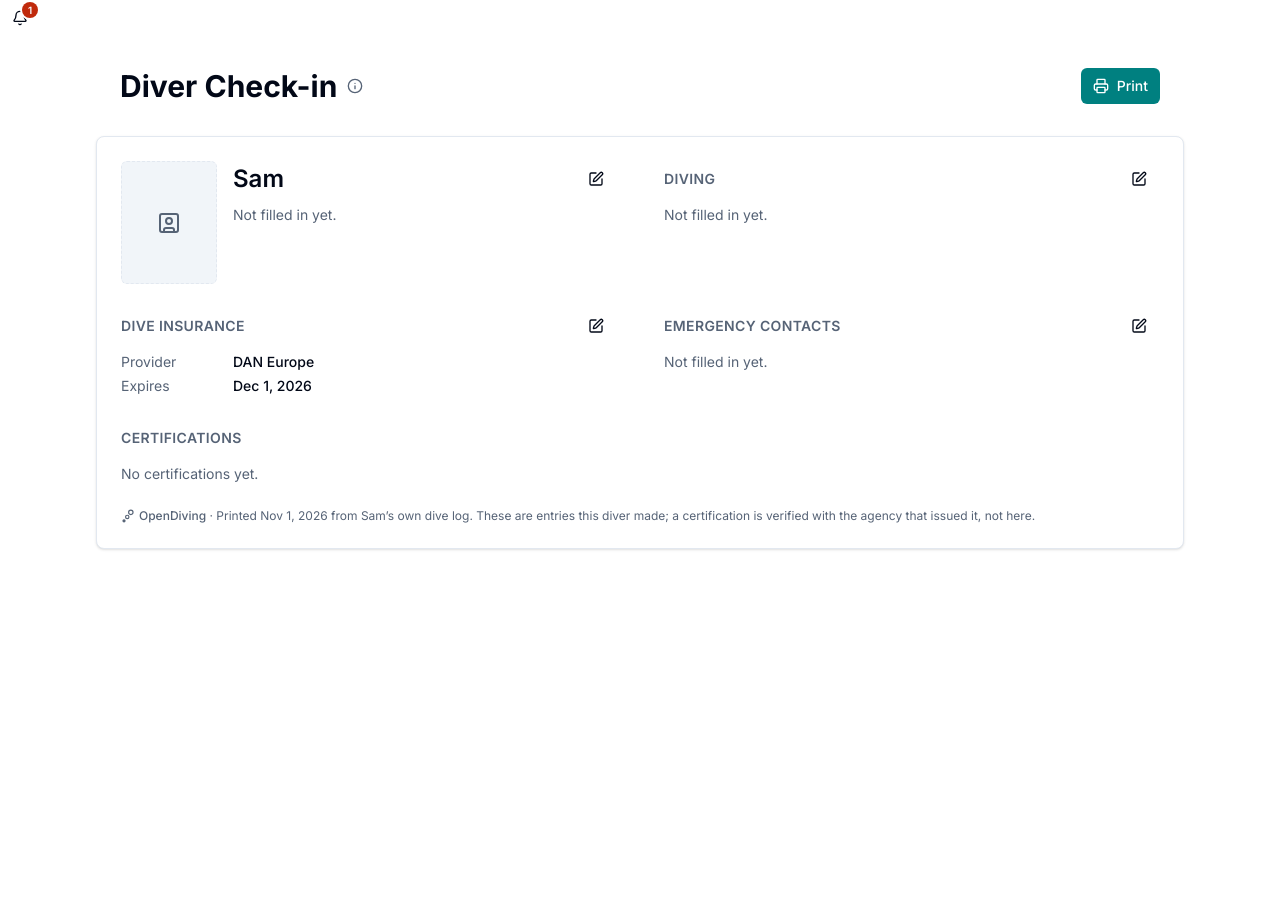
Test: the renewals rows › opens the check-in page's policies form, and a save there shows on a mounted sheet
Click the button named "Notifications" at (20, 18), box [0, 0, 40, 36]
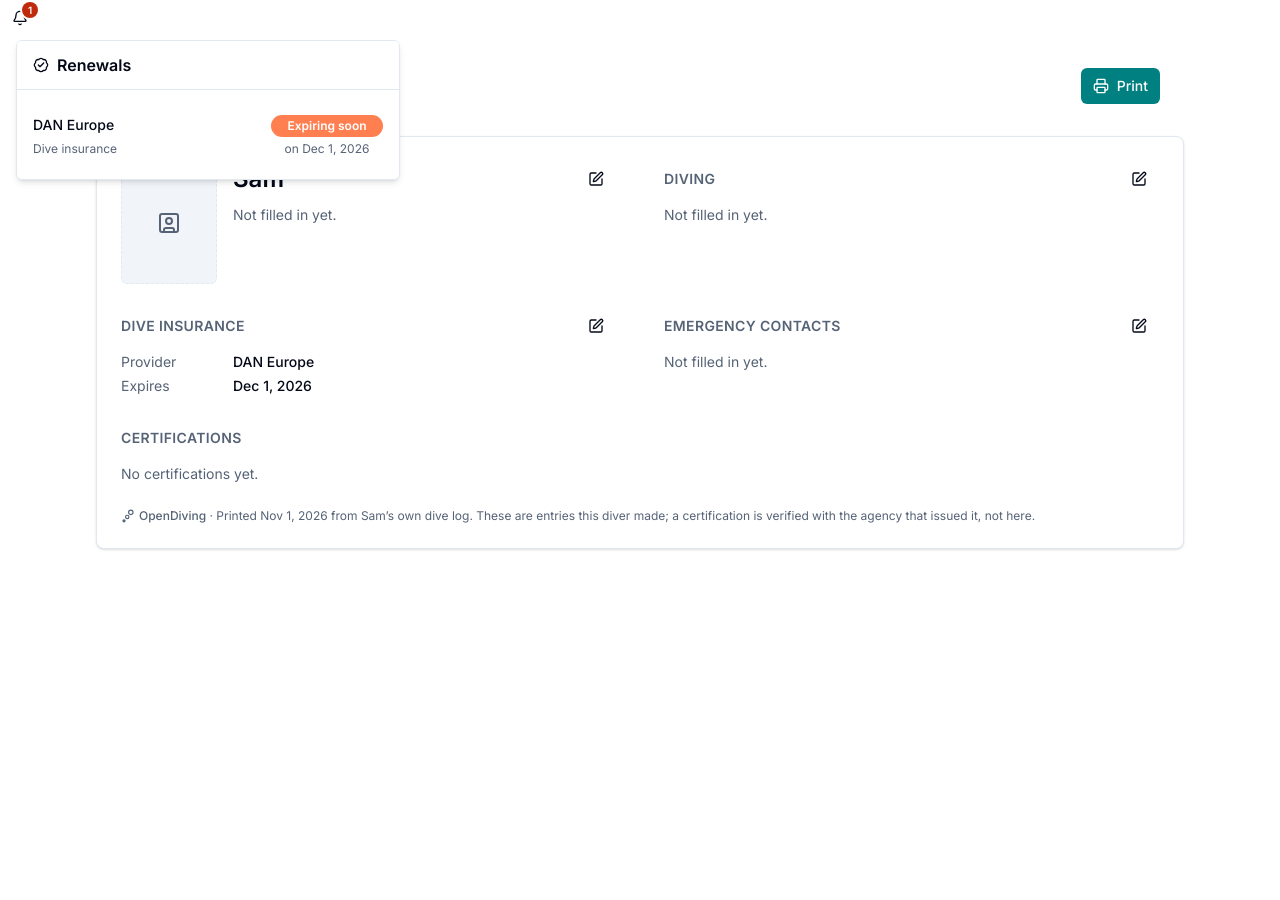
Click the button named "Edit your DAN Europe policy" at (208, 134), box [25, 106, 391, 163]
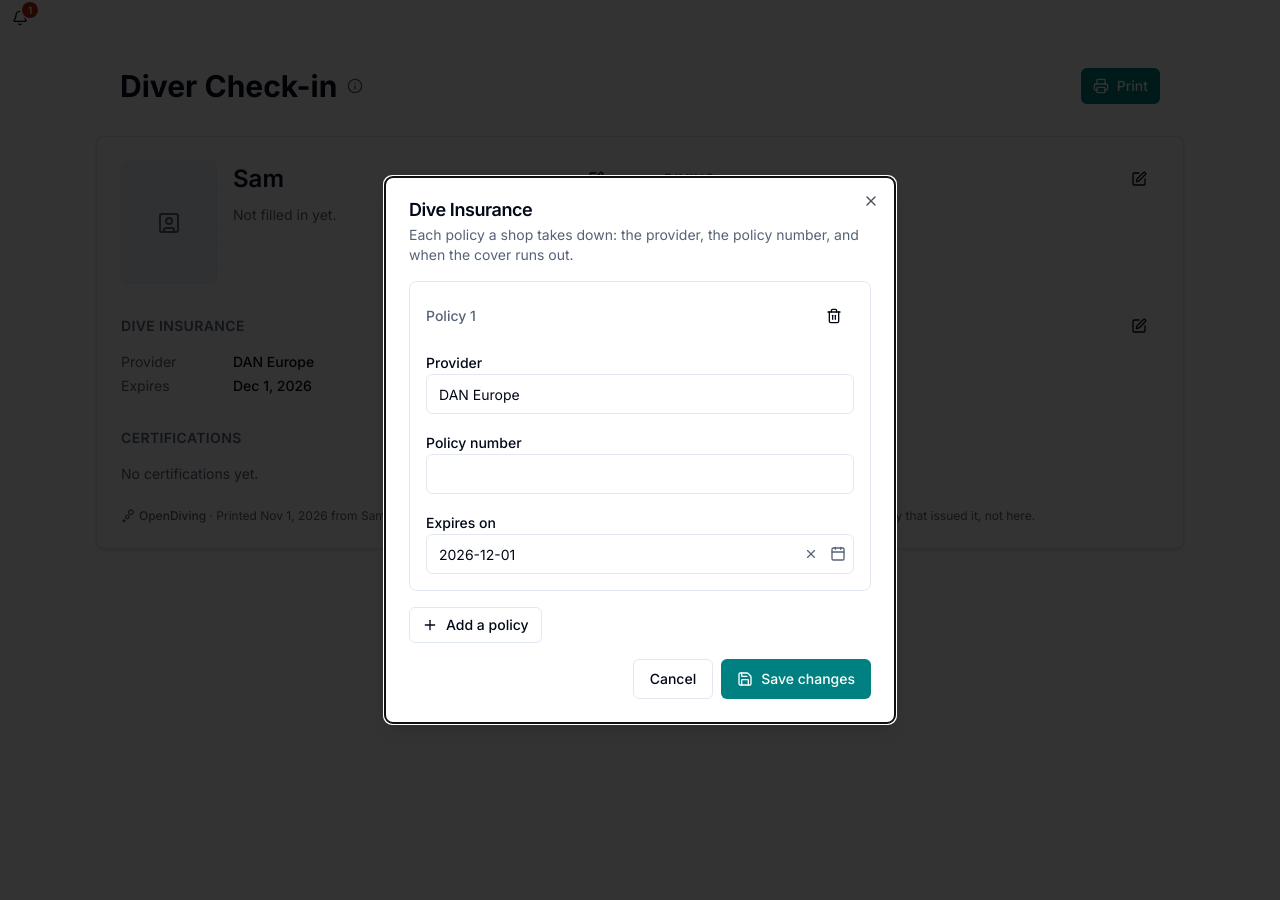
Now the field showing "DAN Europe" is shown, box [426, 374, 854, 414]
Type "P-42" into the field named "Policy number policy 1 of 1" at (640, 474), box [426, 454, 854, 494]
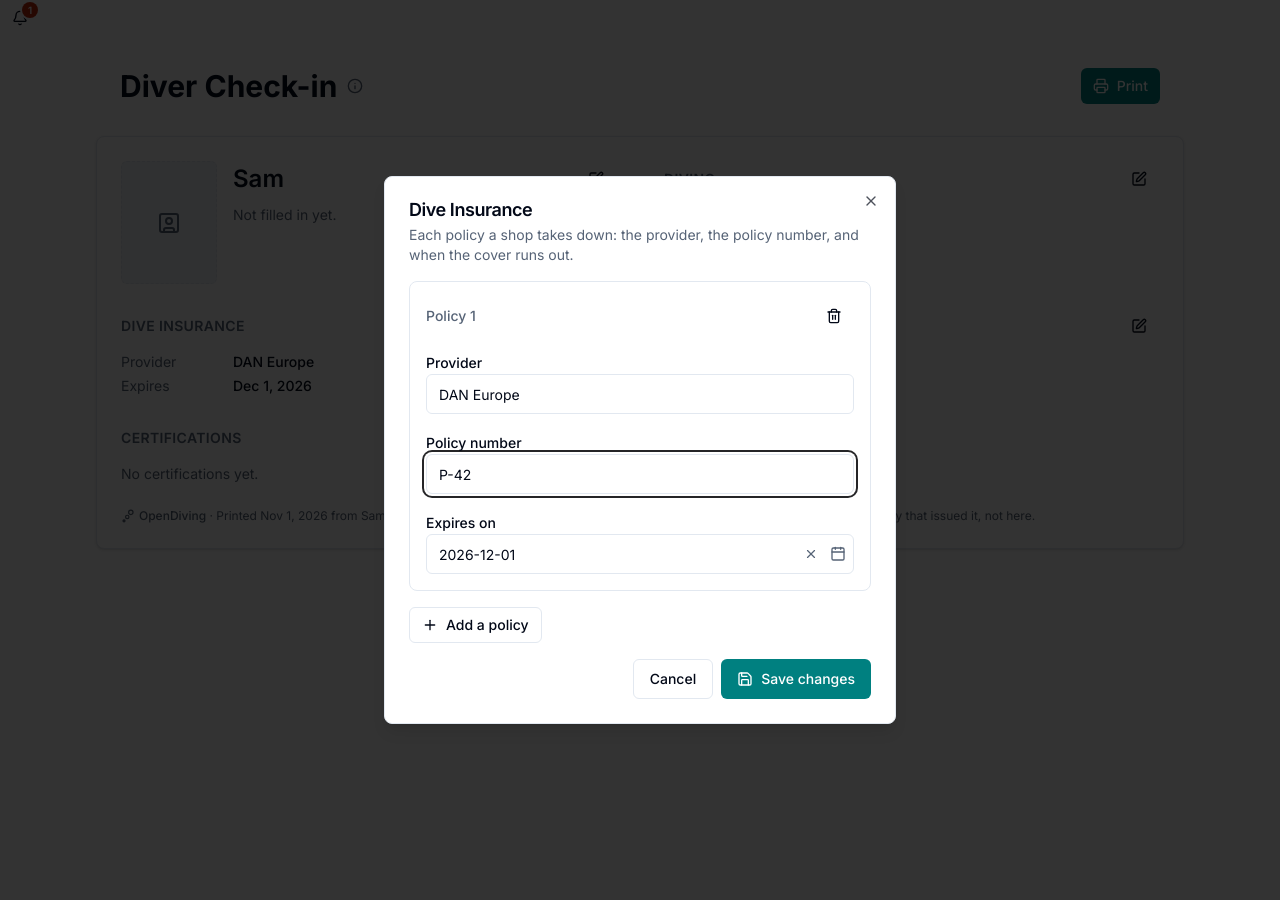
Click the button "Save changes" at (796, 679), box [721, 659, 871, 699]
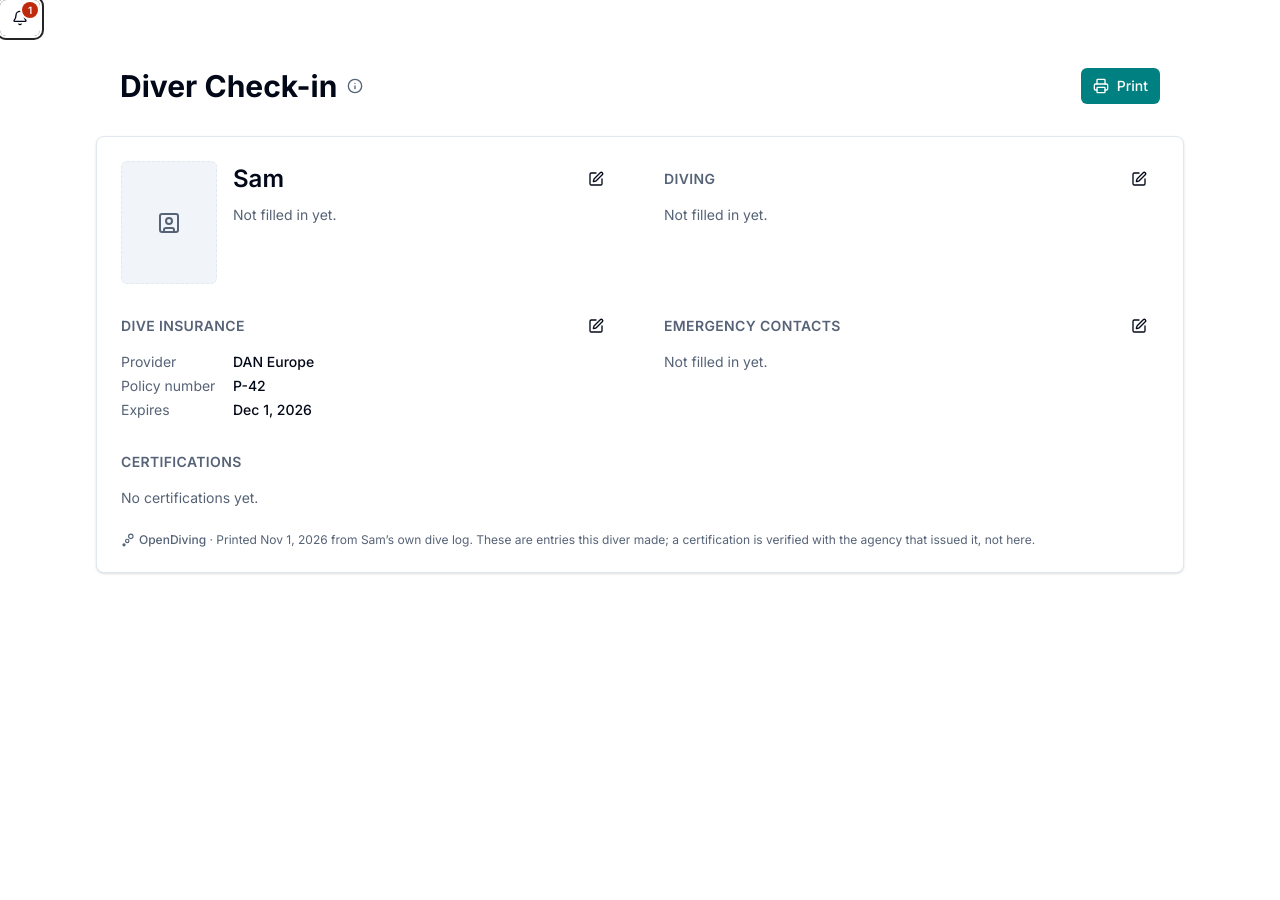
Now the text "P-42" is shown, box [233, 377, 266, 394]
